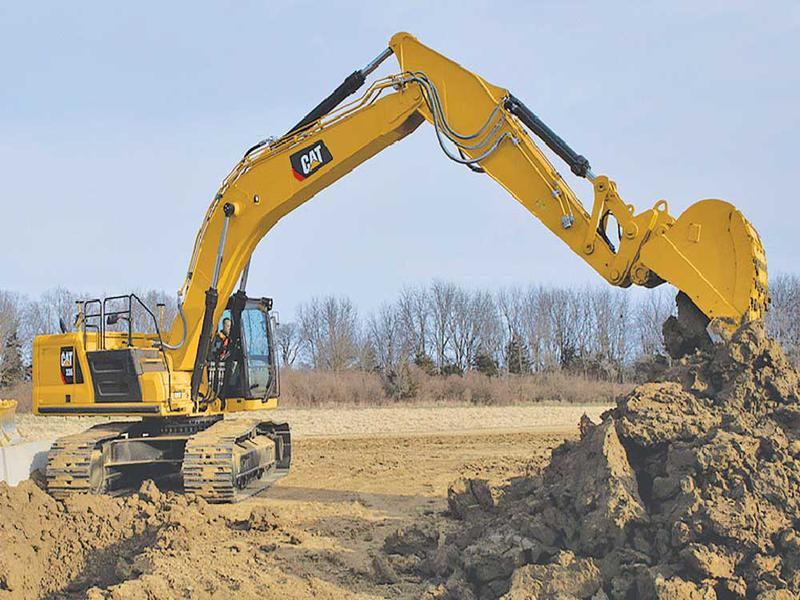shovel: (25, 28, 774, 509)
